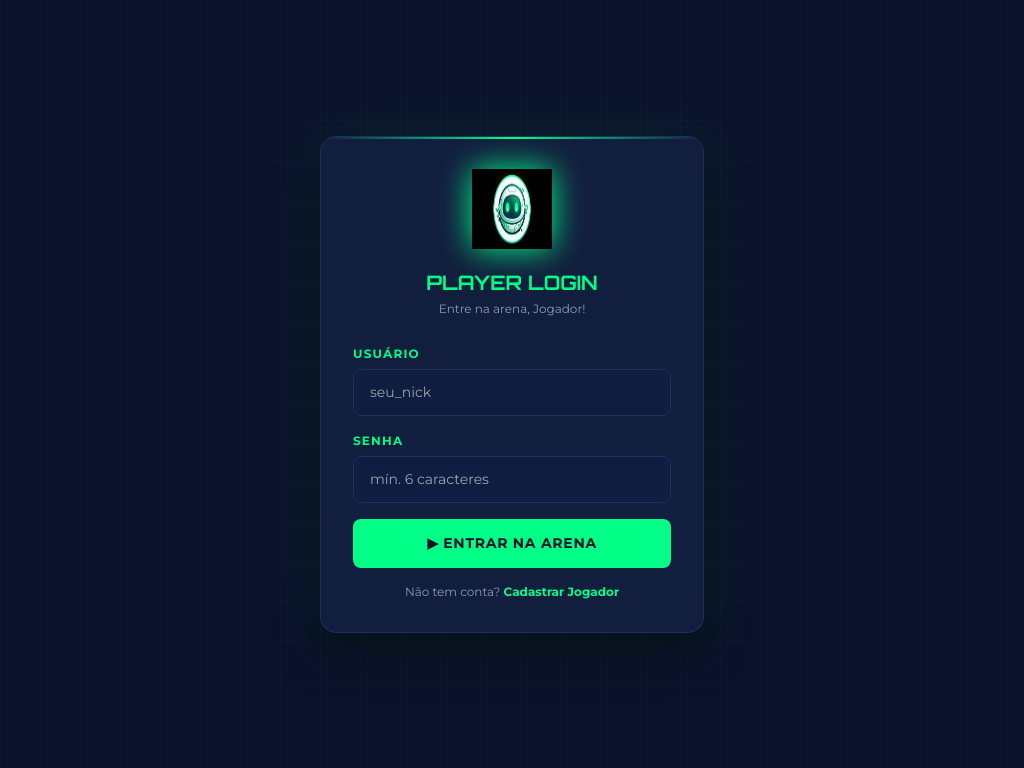
Test: LoginForm › shows server error on failed login
In the field labelled "USUÁRIO": (512, 392) [353, 368, 671, 416], type "jogador"
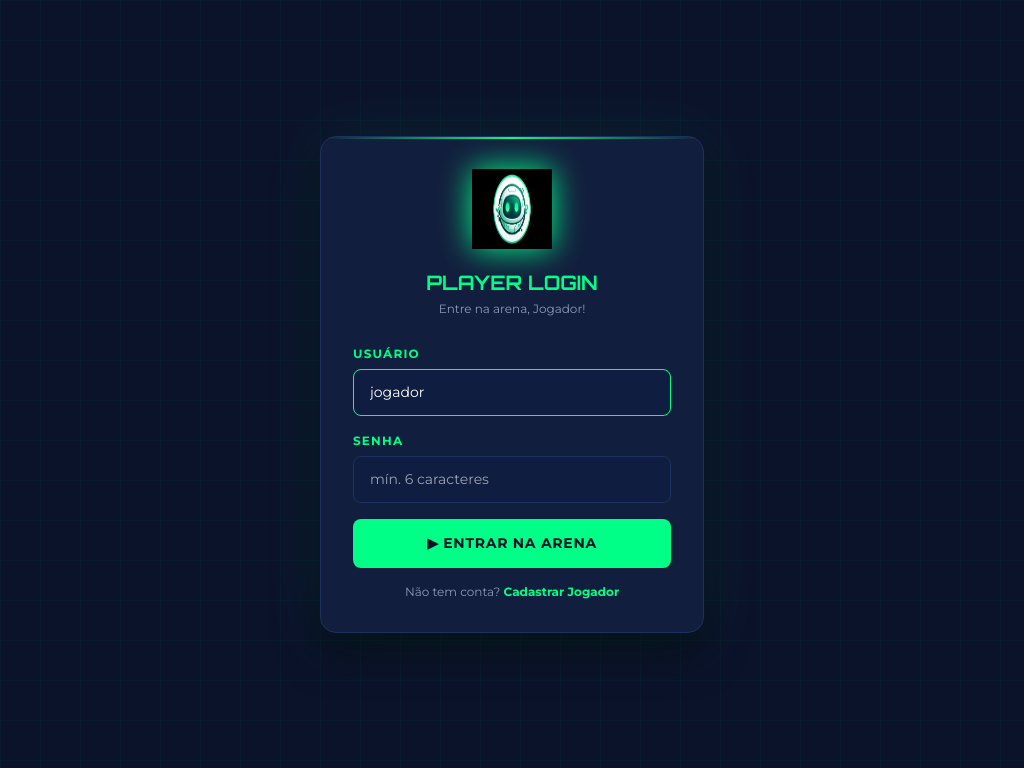
In the password field labelled "SENHA": (512, 479) [353, 456, 671, 502], type "wrongpass"
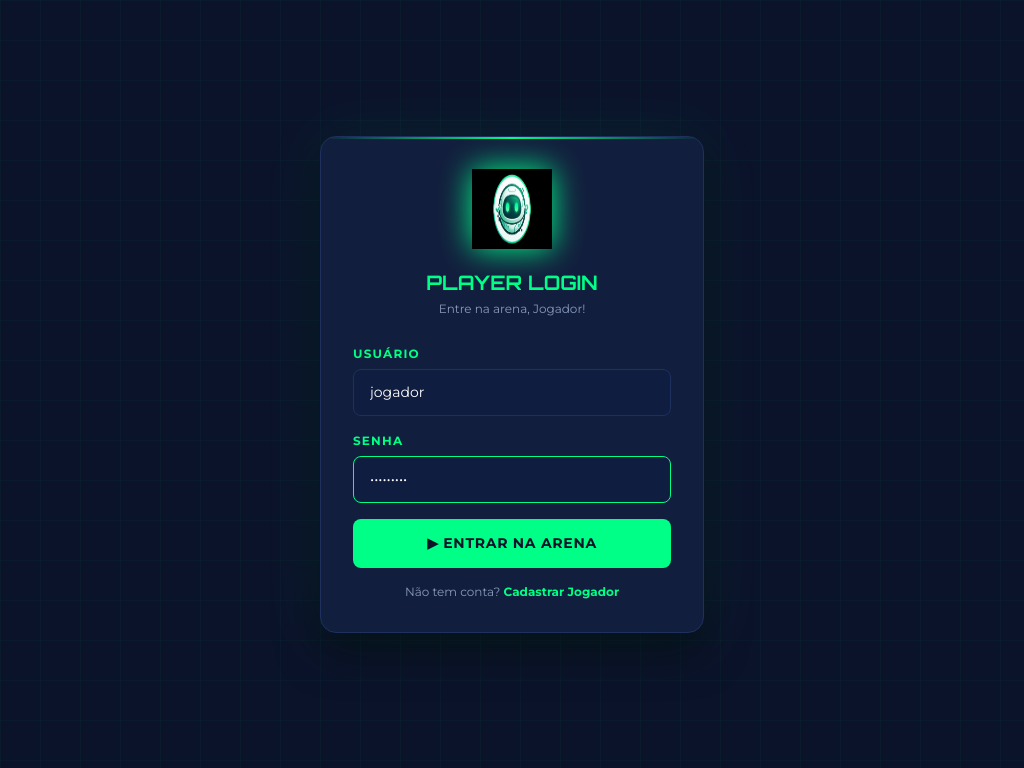
Click the button "▶ ENTRAR NA ARENA": (512, 543) [353, 518, 671, 568]
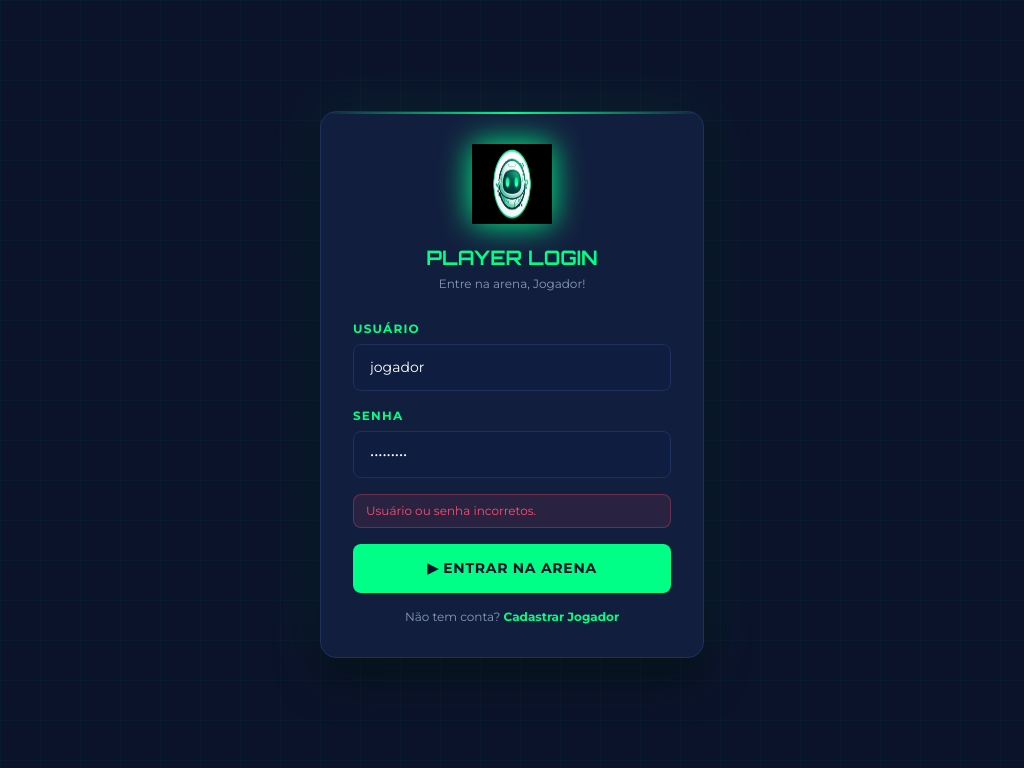
Expected: the text "Usuário ou senha incorretos." is shown, [353, 494, 671, 528]
